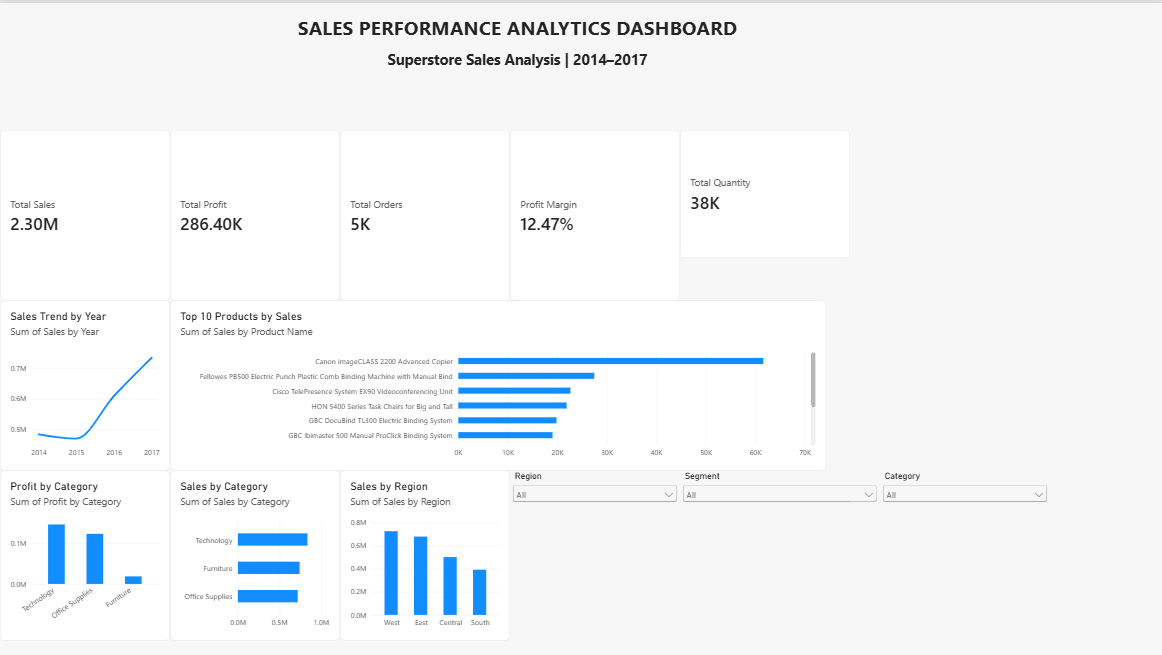

The dashboard page shown, as its layout file describes it:
{"tool":"powerbi","page":{"name":"Page 1","canvas":[1920,1080],"ordinal":0},"visuals":[{"type":"cardVisual","fields":{"Data":["Sample - Superstore.Total Sales"]},"box":[0,209.9,280,280],"z":0},{"type":"cardVisual","fields":{"Data":["Sample - Superstore.Total Profit"]},"box":[279.9,209.9,280,280],"z":1000},{"type":"cardVisual","fields":{"Data":["Sample - Superstore.Total Orders"]},"box":[559.9,209.9,280,280],"z":2000},{"type":"cardVisual","fields":{"Data":["Sample - Superstore.Total Quantity"]},"box":[1119.7,209.9,280,210],"z":3000},{"type":"cardVisual","fields":{"Data":["Sample - Superstore.Profit Margin"]},"box":[839.8,209.9,280,280],"z":4000},{"type":"lineChart","title":"Sales Trend by Year","fields":{"Category":["Sample - Superstore.Order Date.Variation.Date Hierarchy.Year","Sample - Superstore.Order Date.Variation.Date Hierarchy.Quarter","Sample - Superstore.Order Date.Variation.Date Hierarchy.Month","Sample - Superstore.Order Date.Variation.Date Hierarchy.Day"],"Y":["Sum(Sample - Superstore.Sales)"]},"box":[0,489.9,280,280],"z":4001},{"type":"clusteredBarChart","title":"Sales by Category","fields":{"Category":["Sample - Superstore.Category"],"Y":["Sum(Sample - Superstore.Sales)"]},"box":[279.9,769.8,280,280],"z":4002},{"type":"clusteredColumnChart","title":"Sales by Region","fields":{"Category":["Sample - Superstore.Region"],"Y":["Sum(Sample - Superstore.Sales)"]},"box":[559.9,769.8,280,280],"z":4003},{"type":"clusteredBarChart","title":"Top 10 Products by Sales","fields":{"Category":["Sample - Superstore.Product Name"],"Y":["Sum(Sample - Superstore.Sales)"]},"box":[279.9,489.9,1080.6,279.9],"z":4004},{"type":"clusteredColumnChart","title":"Profit by Category","fields":{"Category":["Sample - Superstore.Category"],"Y":["Sum(Sample - Superstore.Profit)"]},"box":[0,769.8,280,280],"z":4005},{"type":"slicer","fields":{"Values":["Sample - Superstore.Region"]},"box":[839.8,769.8,280,210],"z":4006},{"type":"slicer","fields":{"Values":["Sample - Superstore.Category"]},"box":[1449.1,769.8,280,210],"z":4007},{"type":"slicer","fields":{"Values":["Sample - Superstore.Segment"]},"box":[1119.7,769.8,329.3,209.9],"z":4008},{"type":"textbox","box":[0,0,1704.3,74.1],"z":4009},{"type":"textbox","box":[0,57.6,1704.3,55.6],"z":4010}]}

Visuals, with their boxes in screenshot pixels (x1, y1, x2, y2), scaled from the page's 1920x1080 canvas onto the 1162x655 screenshot:
cardVisual - Sample - Superstore.Total Sales: 0:127:169:297
cardVisual - Sample - Superstore.Total Profit: 169:127:339:297
cardVisual - Sample - Superstore.Total Orders: 339:127:508:297
cardVisual - Sample - Superstore.Total Quantity: 678:127:847:255
cardVisual - Sample - Superstore.Profit Margin: 508:127:678:297
"Sales Trend by Year" lineChart: 0:297:169:467
"Sales by Category" clusteredBarChart: 169:467:339:637
"Sales by Region" clusteredColumnChart: 339:467:508:637
"Top 10 Products by Sales" clusteredBarChart: 169:297:823:467
"Profit by Category" clusteredColumnChart: 0:467:169:637
slicer - Sample - Superstore.Region: 508:467:678:594
slicer - Sample - Superstore.Category: 877:467:1046:594
slicer - Sample - Superstore.Segment: 678:467:877:594
textbox: 0:0:1031:45
textbox: 0:35:1031:69
